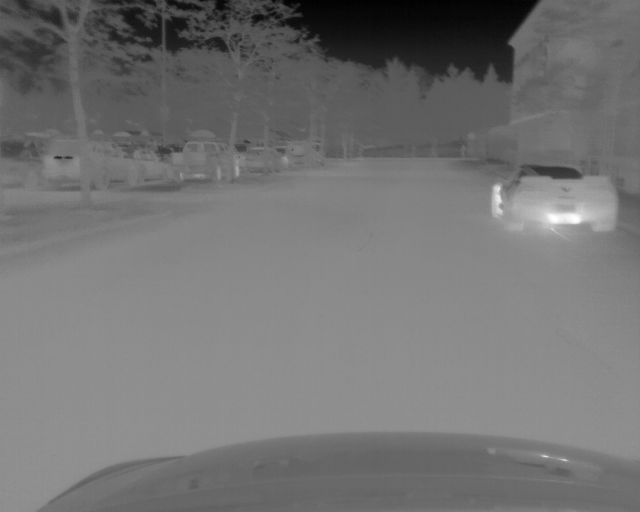car: (490, 164, 619, 234), (39, 135, 137, 188), (120, 144, 181, 189), (180, 140, 241, 180), (283, 140, 324, 171), (243, 144, 285, 173)
